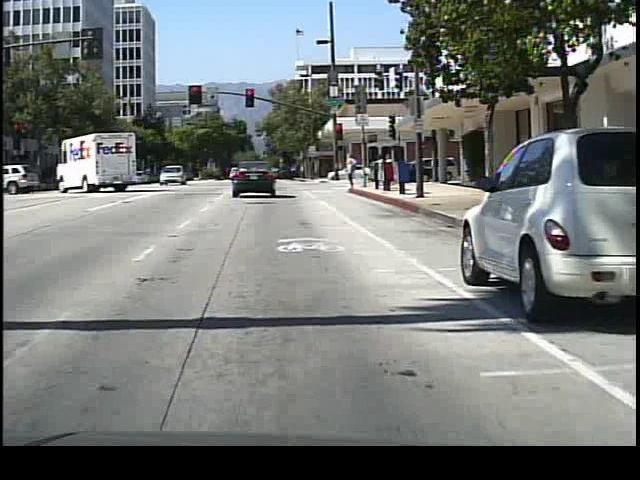person: (343, 151, 364, 195)
